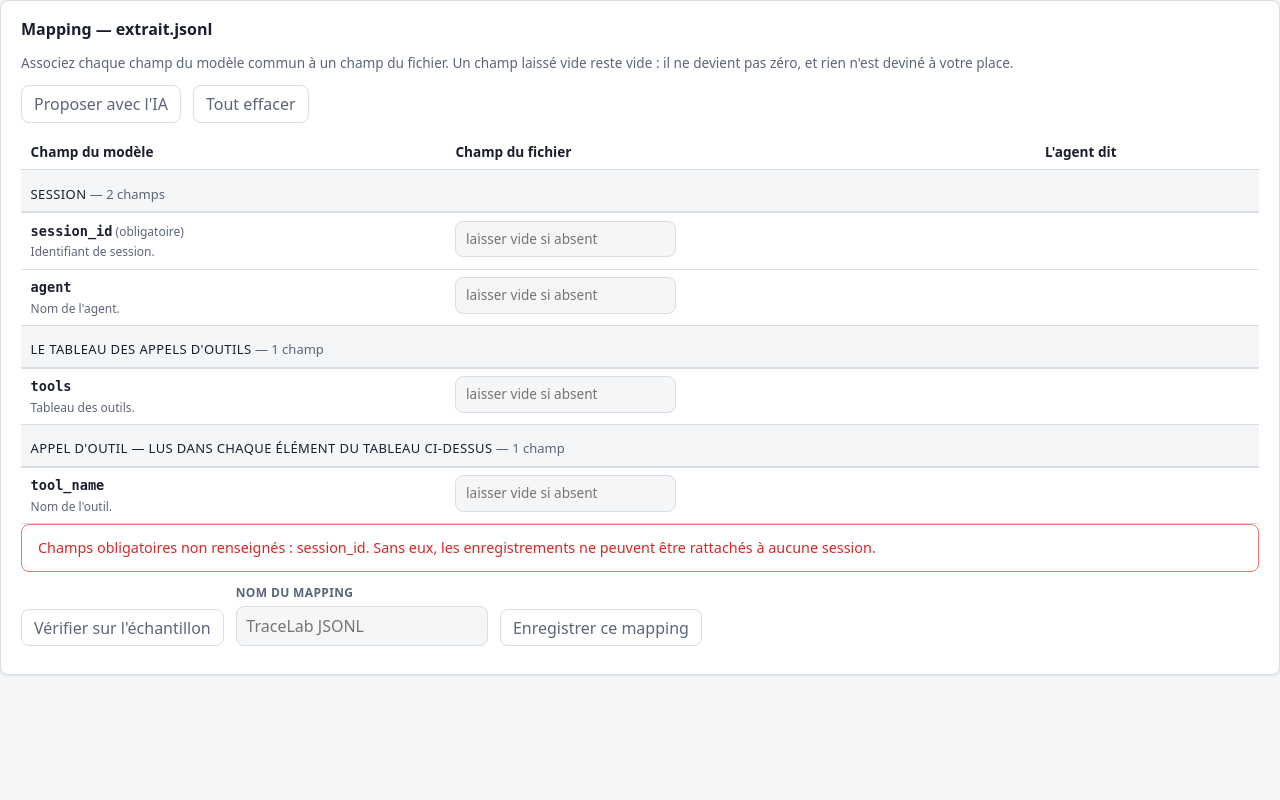
Test: MappingEditor — l'essai à blanc › montre les valeurs réellement lues, champ par champ
The width and height of the screenshot is (1280, 800).
Type "sid" into the field named "Champ du fichier pour session_id" at (566, 239), box [455, 221, 676, 257]
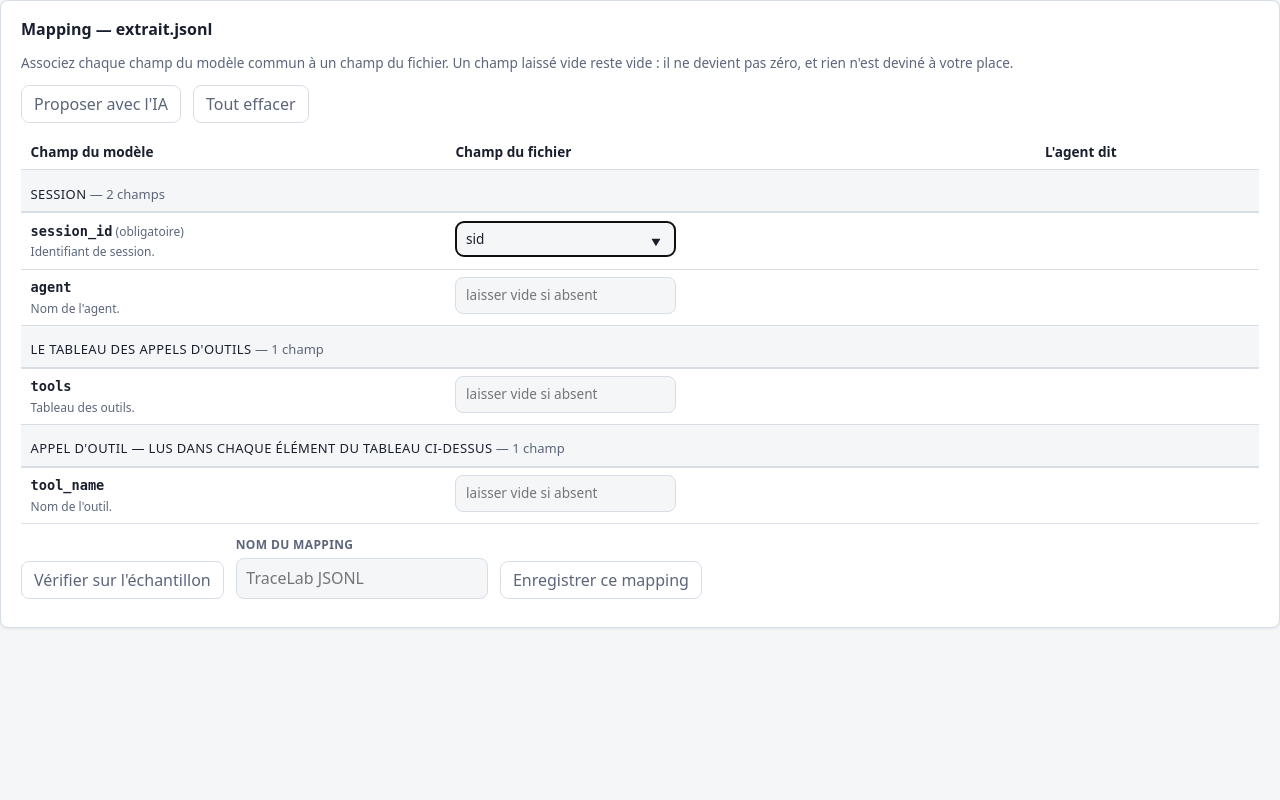
Click the button "Vérifier sur l'échantillon" at (122, 580), box [21, 561, 224, 599]
(page scrolled)
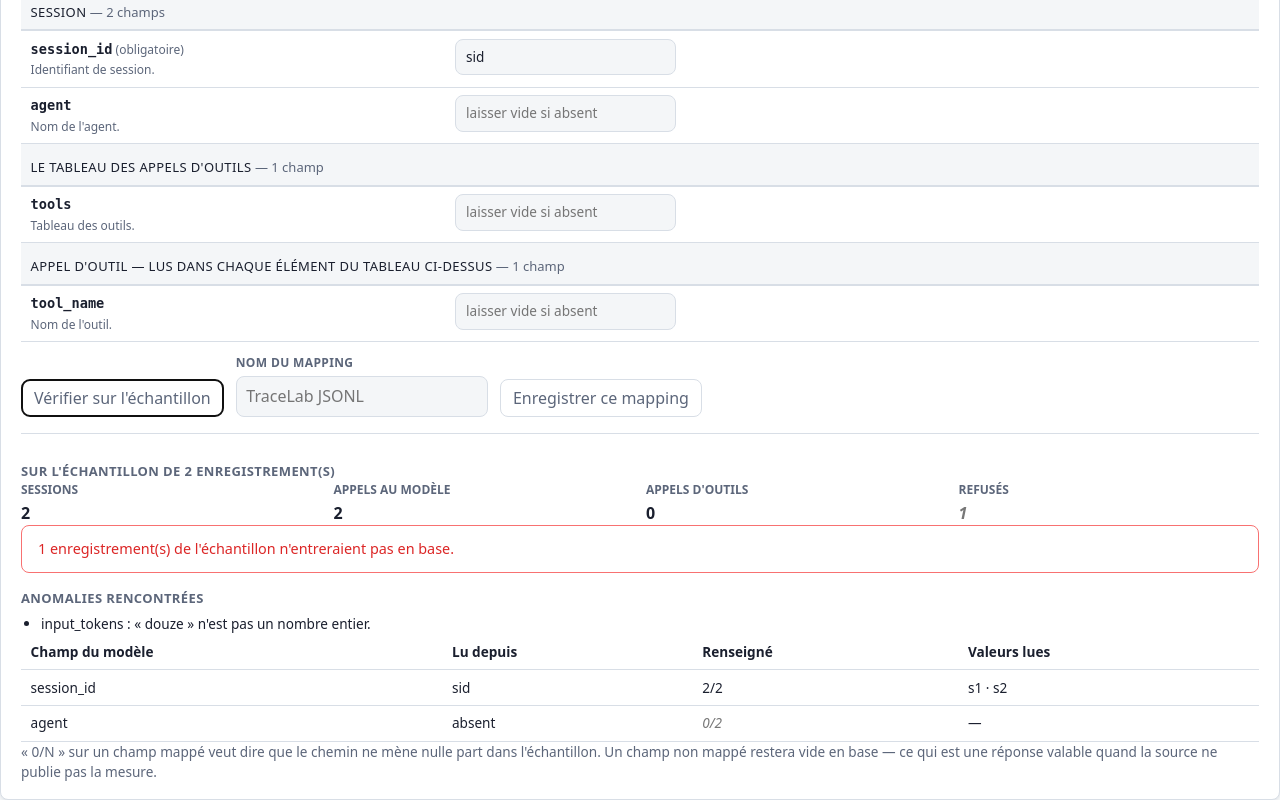
Expected: the text "s1 · s2" is shown, [958, 670, 1259, 706]
